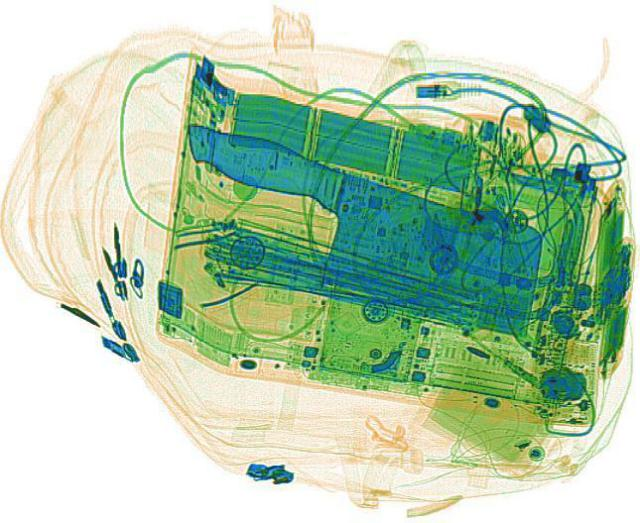Knife: (134, 120, 576, 337)
